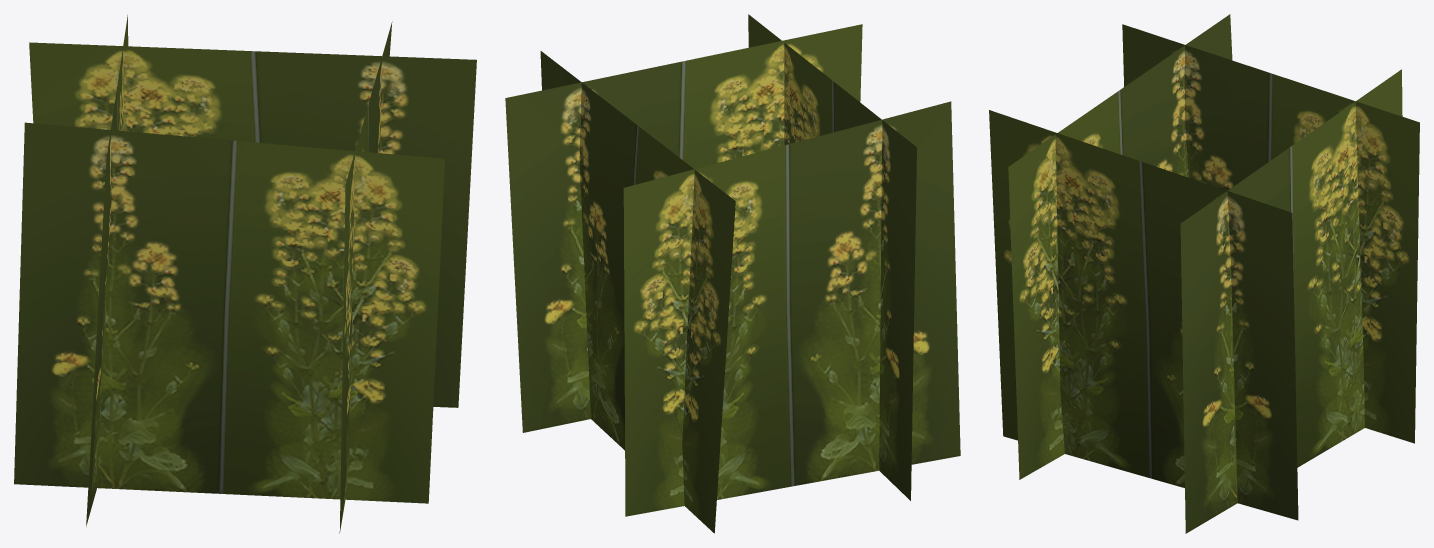
The model's file is Scene_Grass_YouCaiHua_2.FBX.
The picture shows the model from 3 angles, left to right: view 1: azimuth 30°, elevation 25°; view 2: azimuth 150°, elevation 25°; view 3: azimuth 270°, elevation 25°; orthographic projection. The views are drawn at different scales.
Parts seen in each view (by area): view 1: Scene_Grass_YouCaiHua_2; view 2: Scene_Grass_YouCaiHua_2; view 3: Scene_Grass_YouCaiHua_2.
Part boxes in pixels (bbox=[...]): Scene_Grass_YouCaiHua_2: bbox=[14, 15, 476, 533]; Scene_Grass_YouCaiHua_2: bbox=[505, 14, 960, 533]; Scene_Grass_YouCaiHua_2: bbox=[989, 14, 1419, 533].
Bounding box in the file's own units: 122 × 101 × 117.
